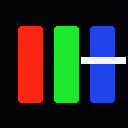3 line_h: (81, 57, 125, 63)
